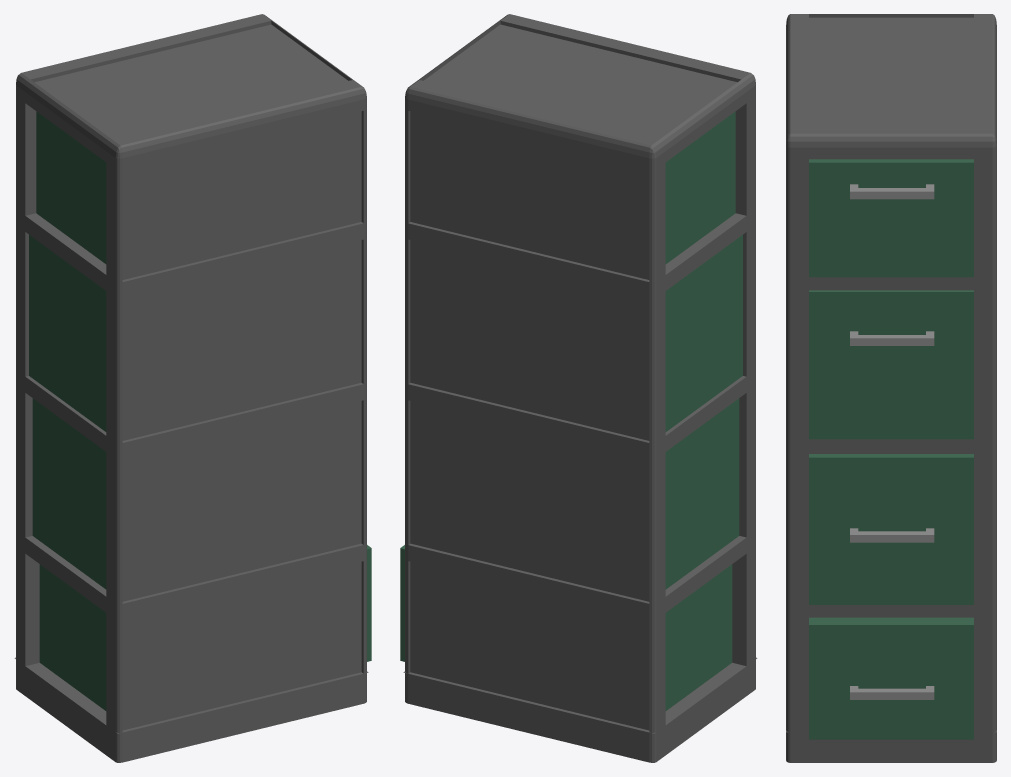
The model's file is prop-cabinet.fbx.
3 views of the same model, side by side, from view 1: azimuth 30°, elevation 25°; view 2: azimuth 150°, elevation 25°; view 3: azimuth 270°, elevation 25° (orthographic).
Visible parts, largest first — view 1: Cube; view 2: Cube; view 3: Cube.
Part boxes in pixels (<box>): Cube: <box>14,14,371,762</box>; Cube: <box>400,14,757,762</box>; Cube: <box>786,14,996,762</box>.
Size of the model in its own units: 77.48 by 164 by 50.
